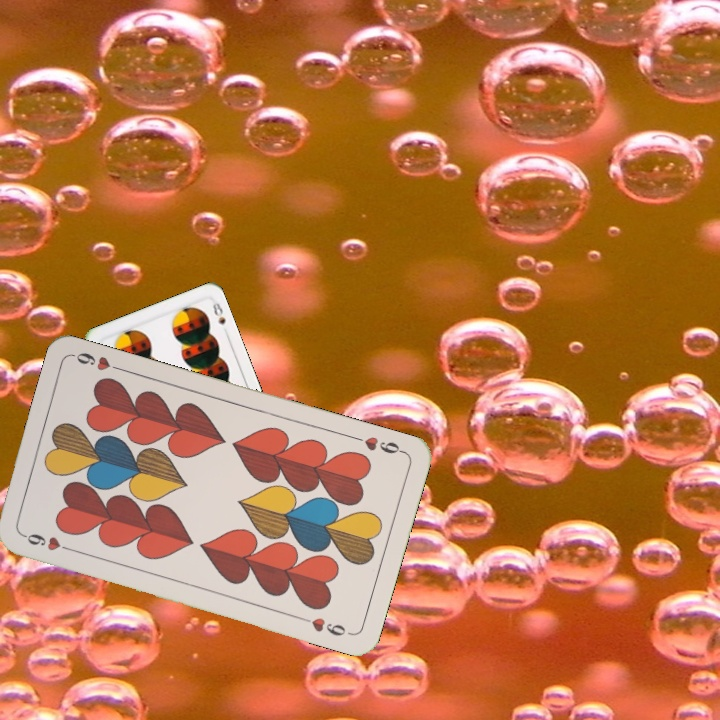H9: (349, 432, 407, 457), (18, 529, 76, 554)
